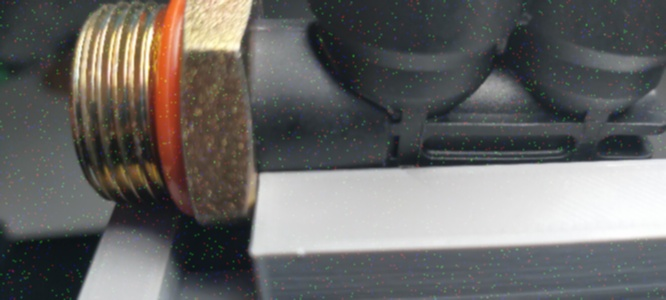joint line: (274, 26, 305, 34)
white mark: (249, 19, 272, 33)
